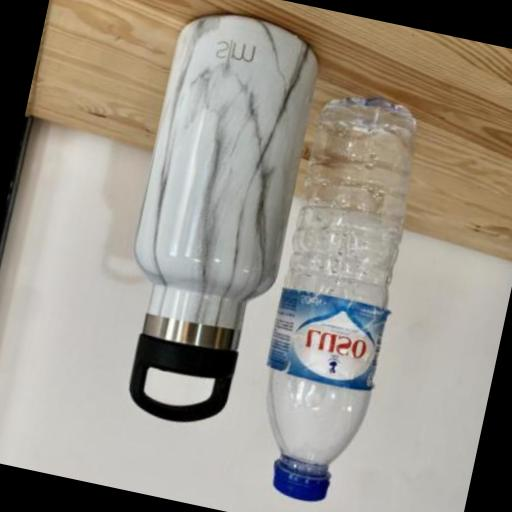Coca: (226, 79, 441, 512)
